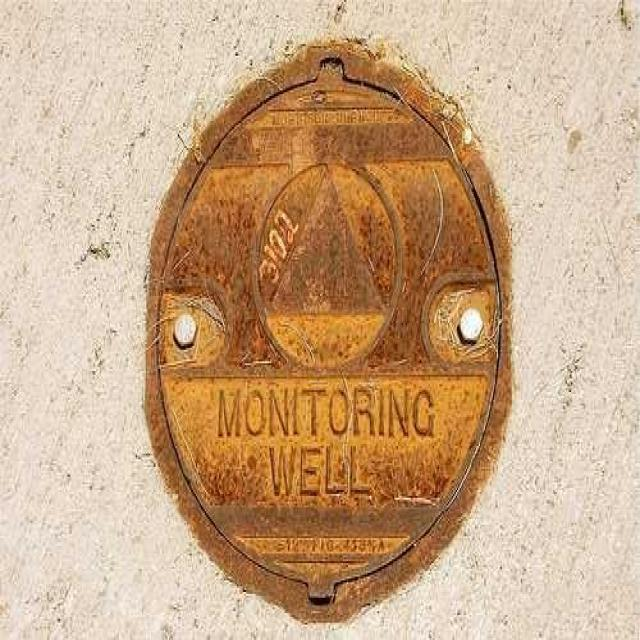manhole: (143, 40, 515, 625)
